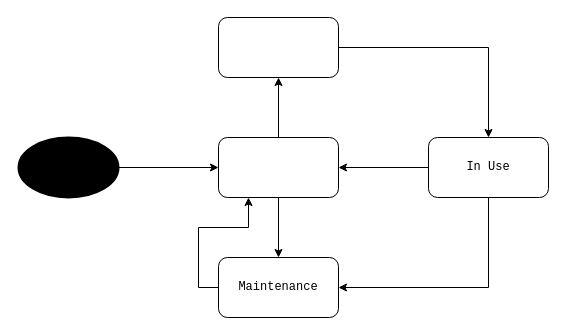
This 566x335 diagram has some shape labels left out. Each missing label, with the centre of its shape:
Available: (x=278, y=167)
Reserved: (x=278, y=47)
